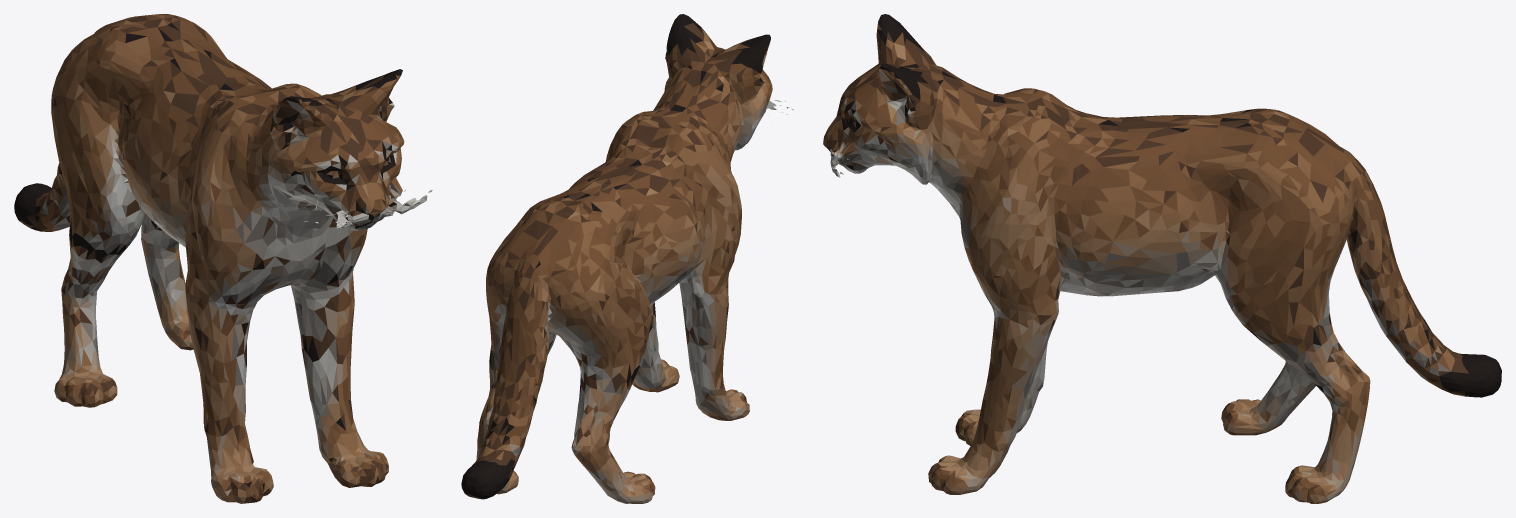
File: lynx_rufus.glb
3 renders of one model, left to right at view 1: azimuth 30°, elevation 25°; view 2: azimuth 150°, elevation 25°; view 3: azimuth 270°, elevation 25°, orthographic. The views are drawn at different scales.
Visible parts, largest first — view 1: lod0; view 2: lod0; view 3: lod0.
Boxes of the visible parts, bbox=[...] form: lod0: bbox=[14, 14, 432, 503]; lod0: bbox=[461, 14, 793, 503]; lod0: bbox=[823, 14, 1501, 503].
Size of what is drawn, in the model's own units: 0.1947 by 0.4188 by 0.6084.
